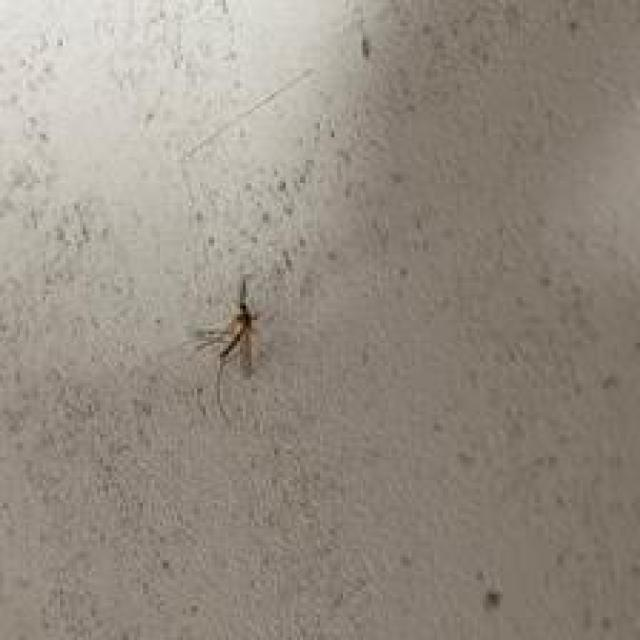Culex: (194, 276, 266, 421)
